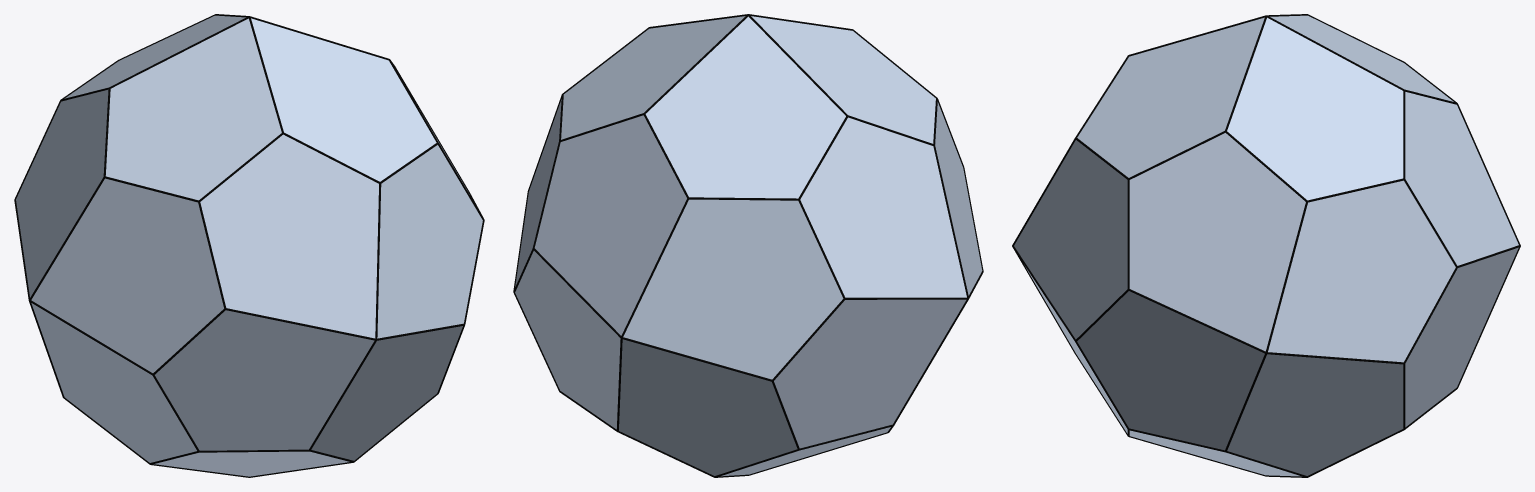
The model's file is PentagonalIcositetrahedron.glb.
3 renders of one model, left to right at view 1: azimuth 30°, elevation 25°; view 2: azimuth 150°, elevation 25°; view 3: azimuth 270°, elevation 25°, orthographic.
Size of the model in its own units: 4.61 by 4.61 by 4.61.
